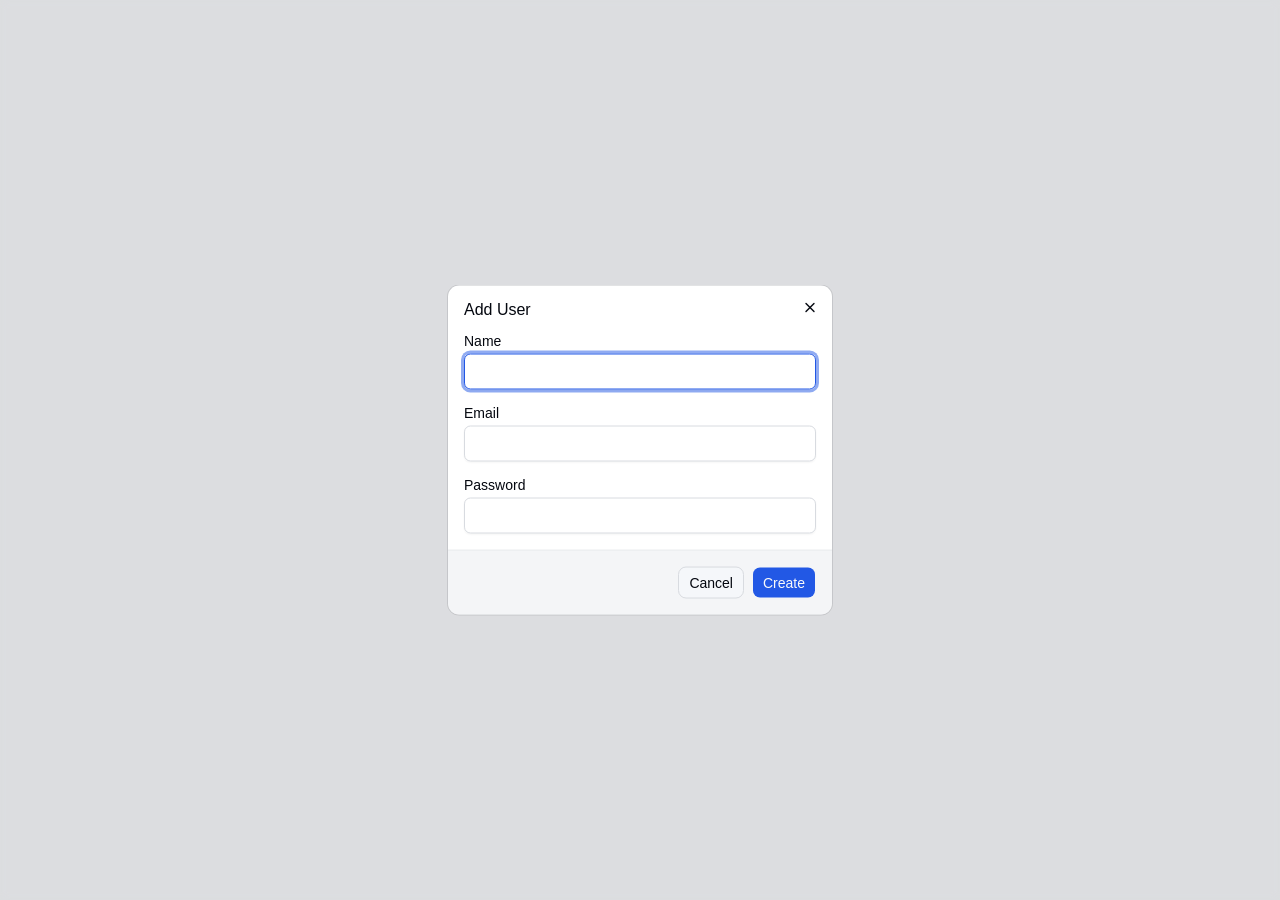
Test: CreateUserDialog › validation › shows an error when Name is too short
The image size is (1280, 900).
Type "ab" into the field labelled "Name".
click(640, 372); type("ab")  # box [464,354,816,390]
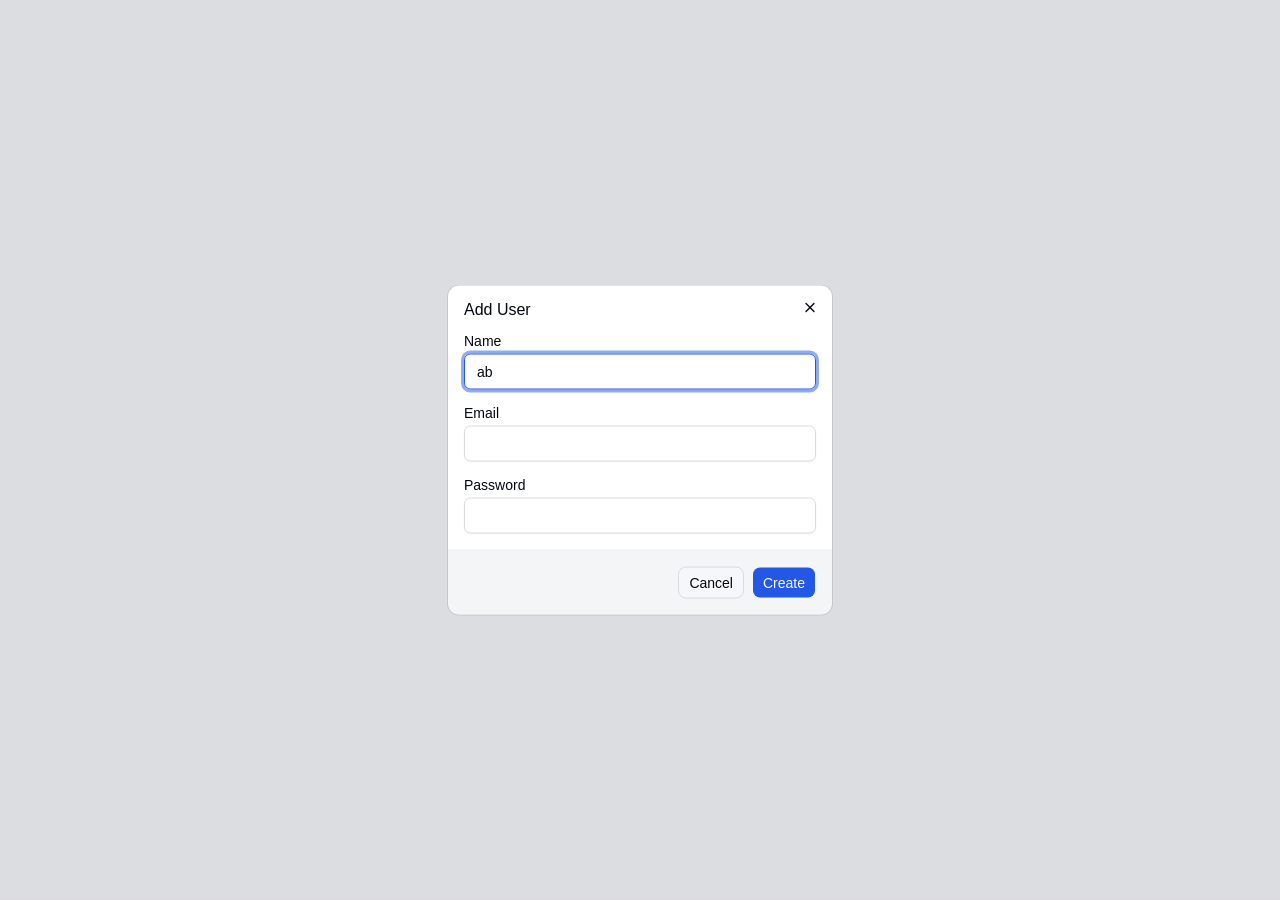
Click the button "Create".
click(784, 582)  # box [752,566,816,598]
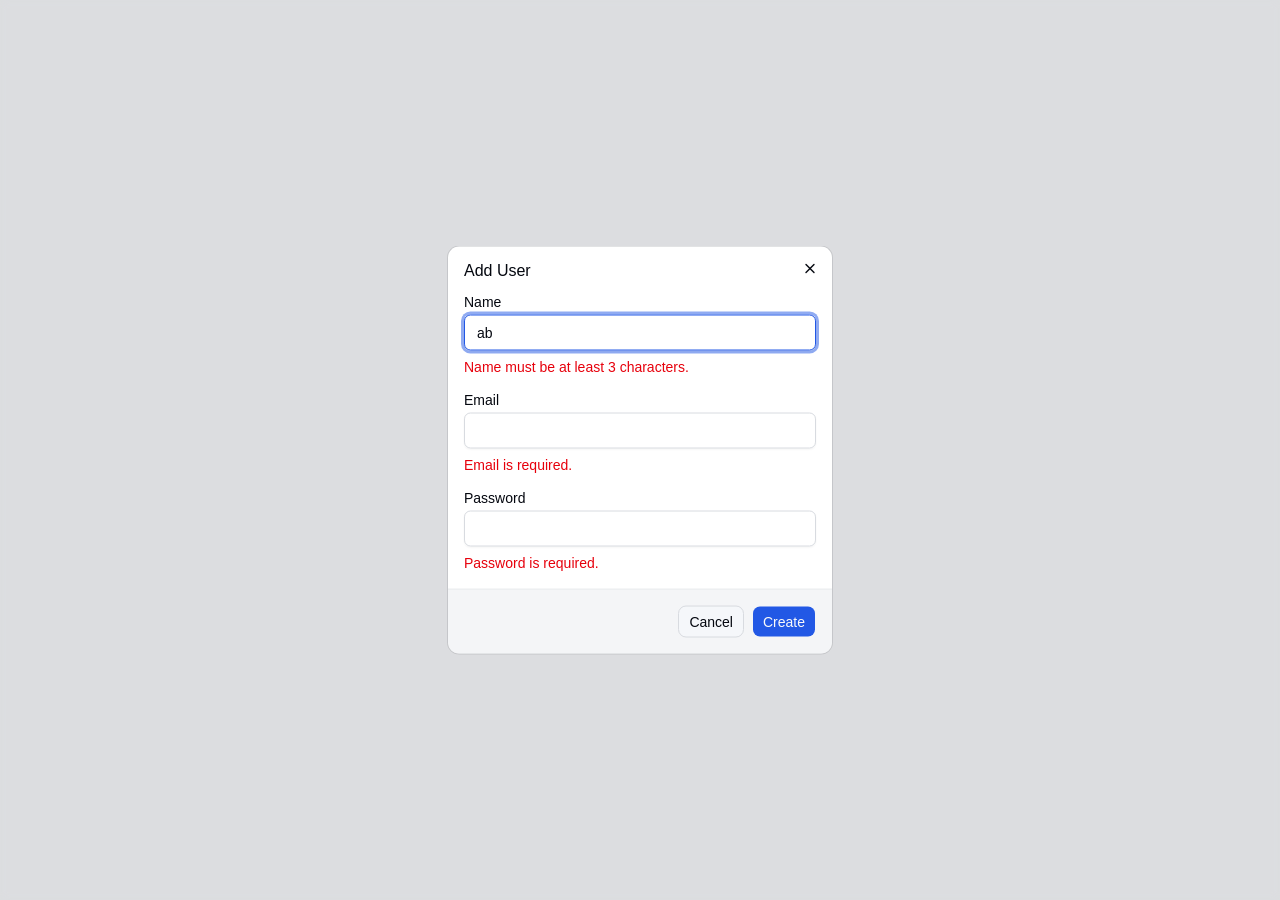
Expected: the text "Name must be at least 3 characters." is shown, [464,358,689,374]
